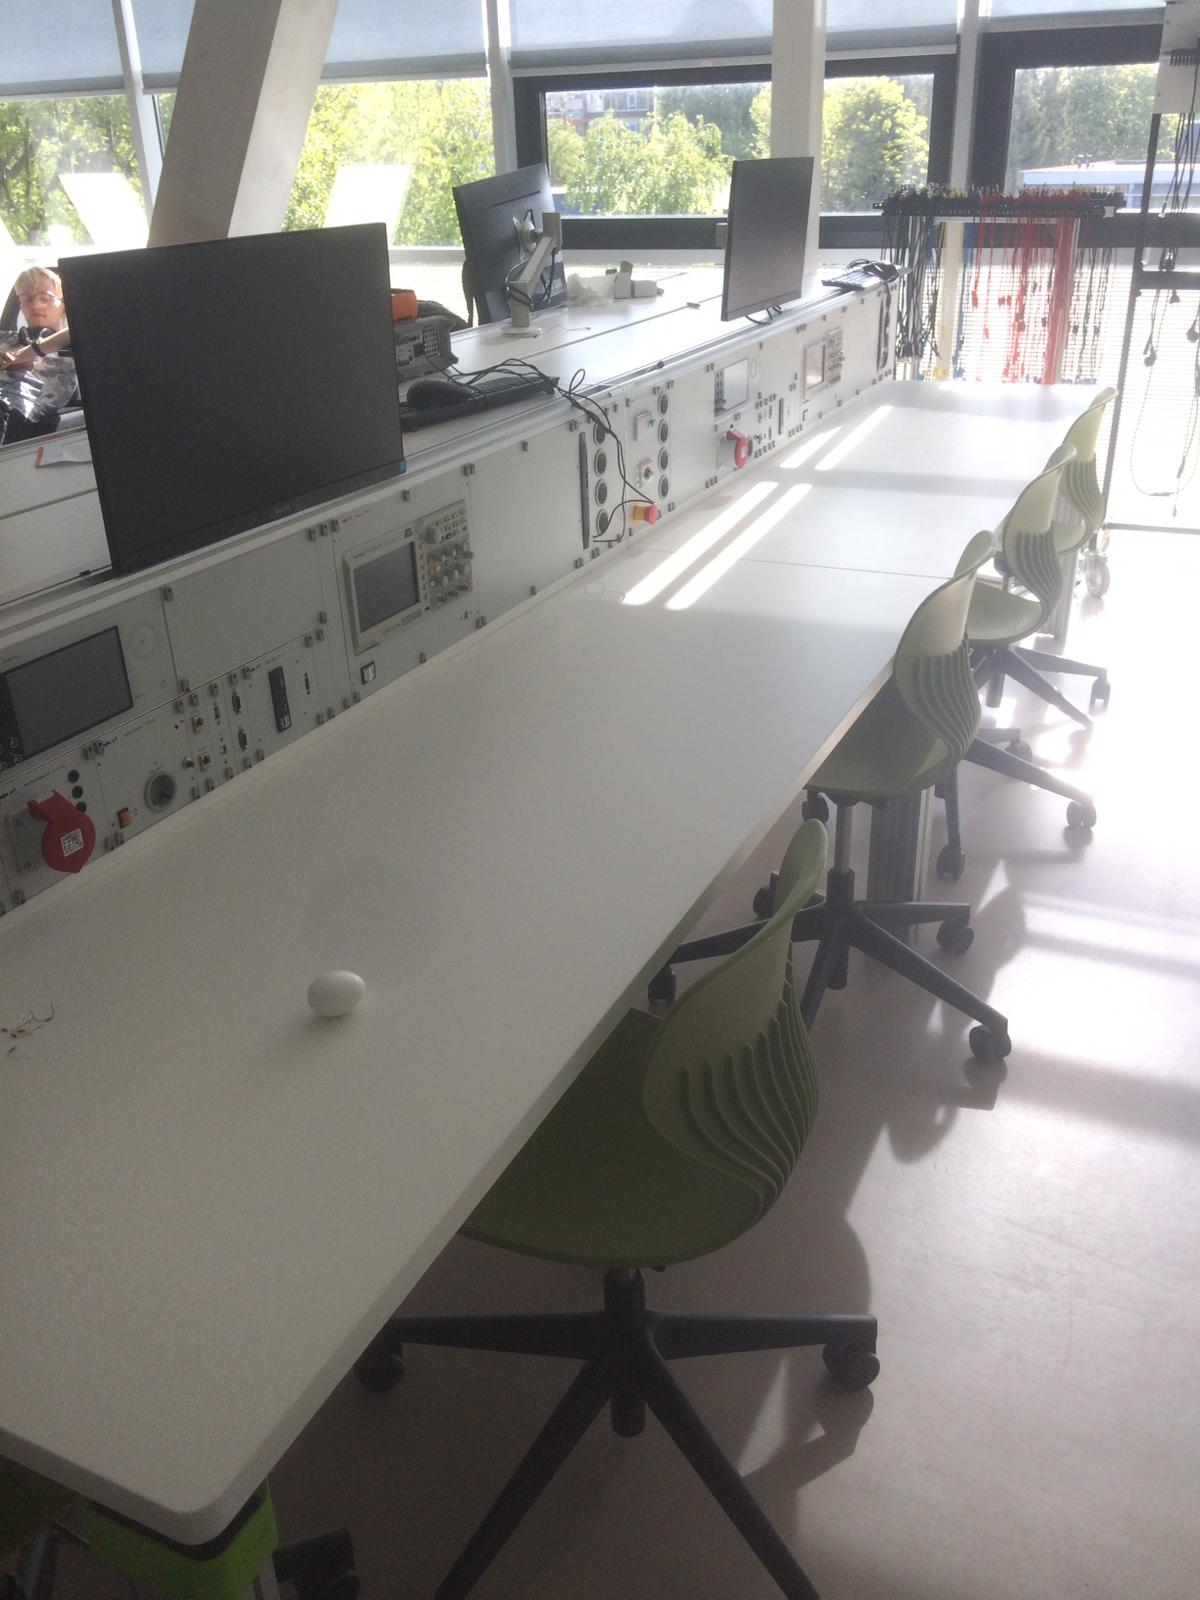egg: (301, 965, 381, 1023)
